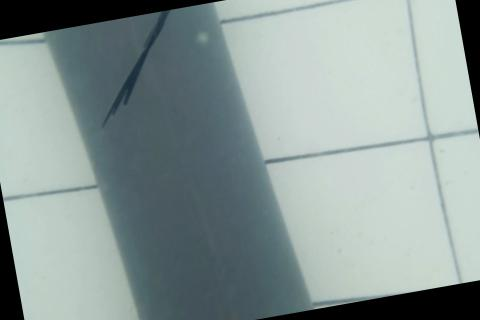keretakan: (82, 10, 191, 132)
